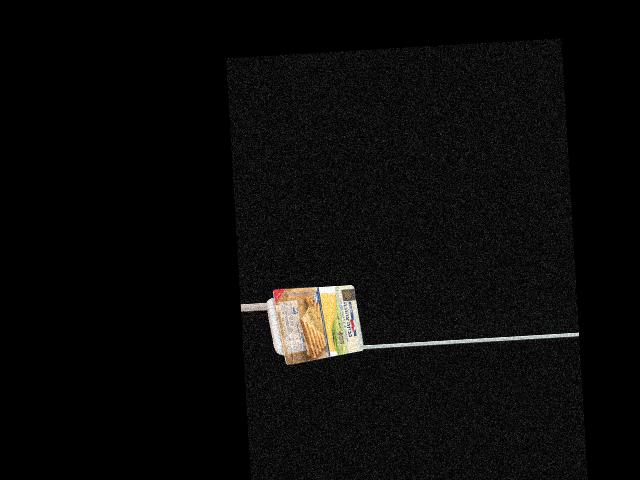cheese: (265, 287, 363, 363)
